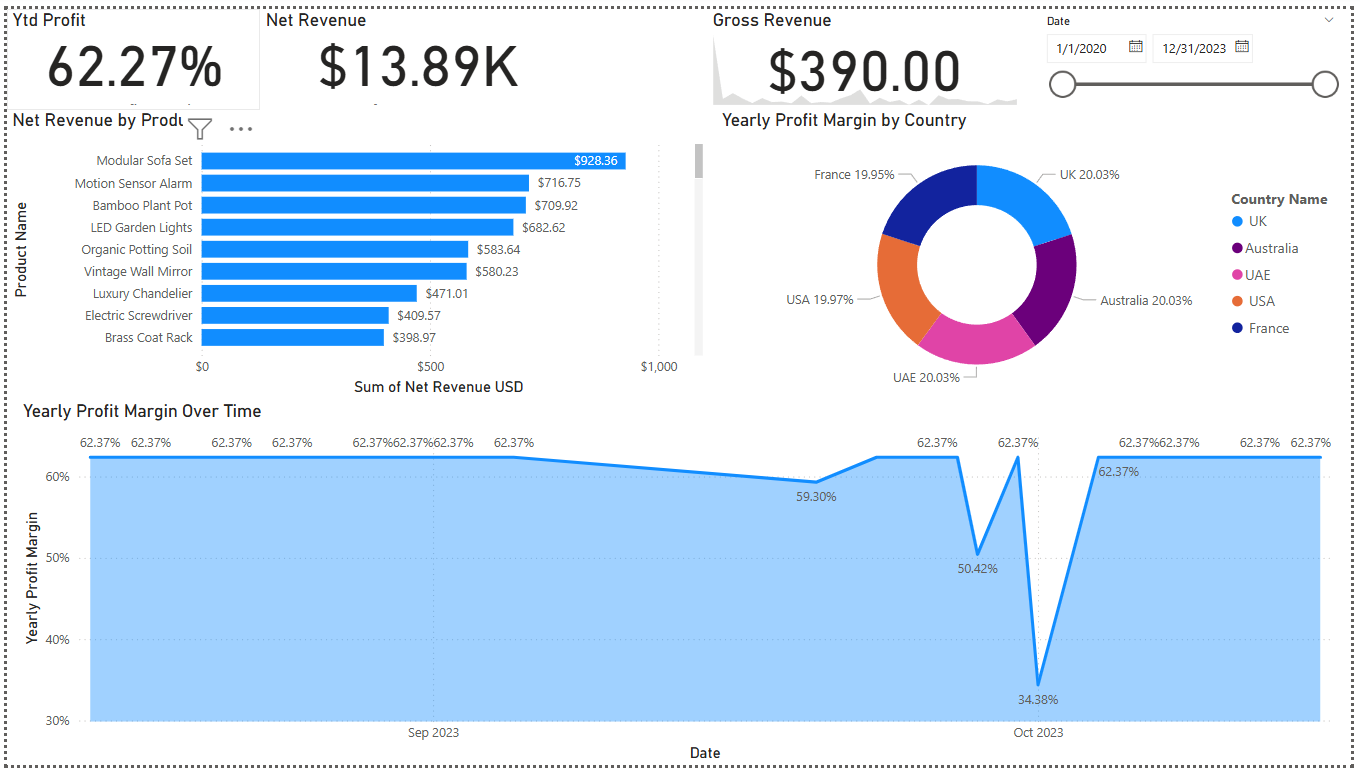

What the dashboard file says about the page in this screenshot:
{"tool":"powerbi","page":{"name":"Profit Overview","canvas":[1280,720],"ordinal":2},"visuals":[{"type":"clusteredBarChart","title":"Net Revenue by Product","fields":{"Category":["Sales in USD.Product Name"],"Y":["Sum(Sales in USD.Net Revenue USD)"]},"box":[0,96.3,667.5,276],"z":0},{"type":"donutChart","title":"Yearly Profit Margin by Country","fields":{"Category":["Sales in USD.Country Name"],"Y":["Sales in USD.Yearly Profit Margin"]},"box":[676,96.3,603.3,276],"z":1000},{"type":"areaChart","title":"Yearly Profit Margin Over Time","fields":{"Y":["Sales in USD.Yearly Profit Margin"],"Category":["CalendarTable.Date"]},"box":[10,372.5,1269.4,347.4],"z":2000},{"type":"card","title":"Ytd Profit","fields":{"Values":["Sales in USD.YTD Profit"]},"box":[0,0,241.7,96.3],"z":3000},{"type":"card","title":"Net Revenue","fields":{"Values":["Sum(Sales in USD.Net Revenue USD)"]},"box":[241.7,0,299.5,96.3],"z":4000},{"type":"kpi","title":"Gross Revenue","fields":{"Indicator":["Sum(Sales in USD.Gross Revenue USD)"],"TrendLine":["CalendarTable.Date"]},"box":[667.5,0,299.5,96.3],"z":5000},{"type":"slicer","fields":{"Values":["CalendarTable.Date"]},"box":[977.7,0,299.5,100.5],"z":6000}]}

Visuals, with their boxes in screenshot pixels (x1, y1, x2, y2), scaled from the page's 1280x720 canvas onto the 1360x773 screenshot:
"Net Revenue by Product" clusteredBarChart: (x1=0, y1=103, x2=709, y2=400)
"Yearly Profit Margin by Country" donutChart: (x1=718, y1=103, x2=1359, y2=400)
"Yearly Profit Margin Over Time" areaChart: (x1=11, y1=400, x2=1359, y2=772)
"Ytd Profit" card: (x1=0, y1=0, x2=257, y2=103)
"Net Revenue" card: (x1=257, y1=0, x2=575, y2=103)
"Gross Revenue" kpi: (x1=709, y1=0, x2=1027, y2=103)
slicer - CalendarTable.Date: (x1=1039, y1=0, x2=1357, y2=108)
